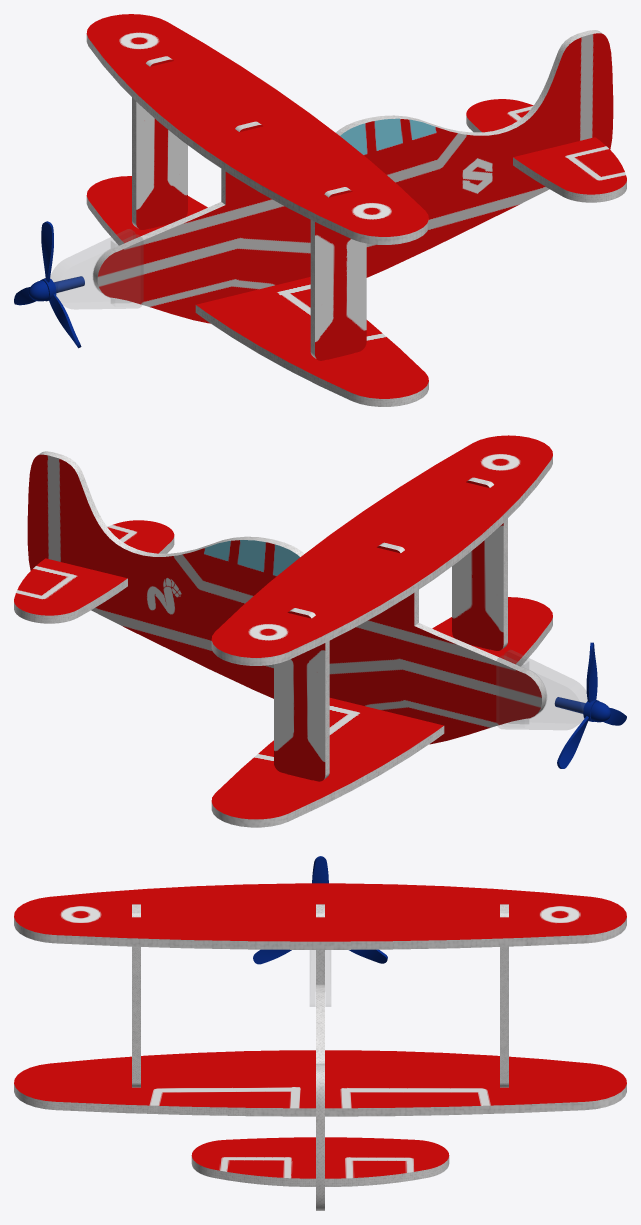
The model's file is ToyPlane.fbx.
3 views of the same model, one above another, from view 1: azimuth 30°, elevation 25°; view 2: azimuth 150°, elevation 25°; view 3: azimuth 270°, elevation 25° (orthographic). The views are drawn at different scales.
Parts seen in each view (by area): view 1: Main_Body, Wing_Top, Wing_Bottom, Supports, Tail, Propeller_Weight, Propeller, Propeller_Retainer; view 2: Main_Body, Wing_Top, Wing_Bottom, Supports, Tail, Propeller_Weight, Propeller, Propeller_Retainer; view 3: Wing_Top, Wing_Bottom, Tail, Supports, Main_Body, Propeller, Propeller_Weight.
Boxes of the visible parts, x1,y1,x2,y2 form: Main_Body: (93,30,613,323); Wing_Top: (86,14,428,244); Wing_Bottom: (86,176,428,406); Supports: (132,56,366,360); Tail: (466,99,626,202); Propeller_Weight: (50,229,143,309); Propeller: (14,221,81,348); Propeller_Retainer: (28,276,84,301); Main_Body: (27,451,546,744); Wing_Top: (211,435,552,665); Wing_Bottom: (211,597,552,827); Supports: (274,477,507,781); Tail: (14,520,174,623); Propeller_Weight: (496,650,587,729); Propeller: (557,642,626,768); Propeller_Retainer: (554,697,610,722); Wing_Top: (14,883,626,949); Wing_Bottom: (14,1050,626,1116); Tail: (191,1137,449,1186); Supports: (132,904,508,1087); Main_Body: (316,904,324,1210); Propeller: (253,856,387,964); Propeller_Weight: (310,950,330,1006).
Bounding box in the file's own units: 22.55 × 7.55 × 19.99.
